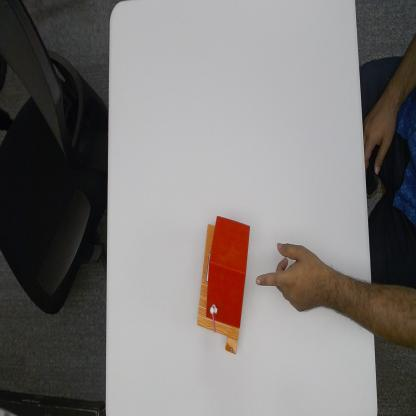Arm: (324, 261, 371, 333)
Hand: (254, 242, 324, 312)
House: (199, 216, 248, 352)
